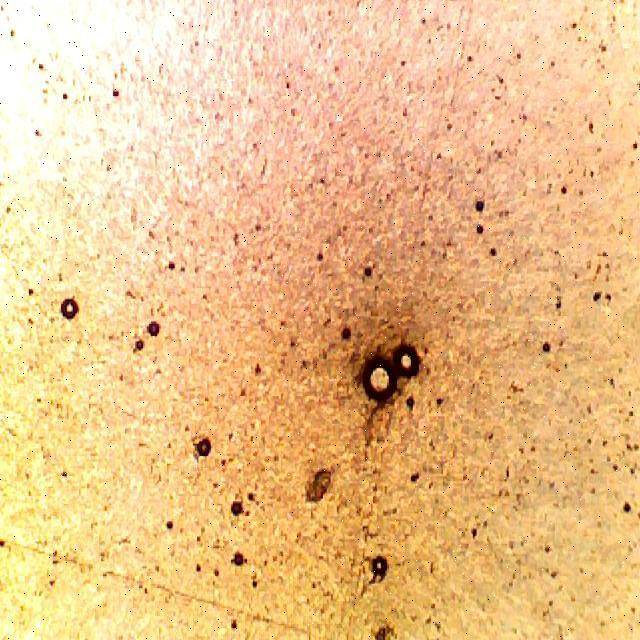microbeads: (362, 354, 398, 406), (61, 296, 81, 322)
